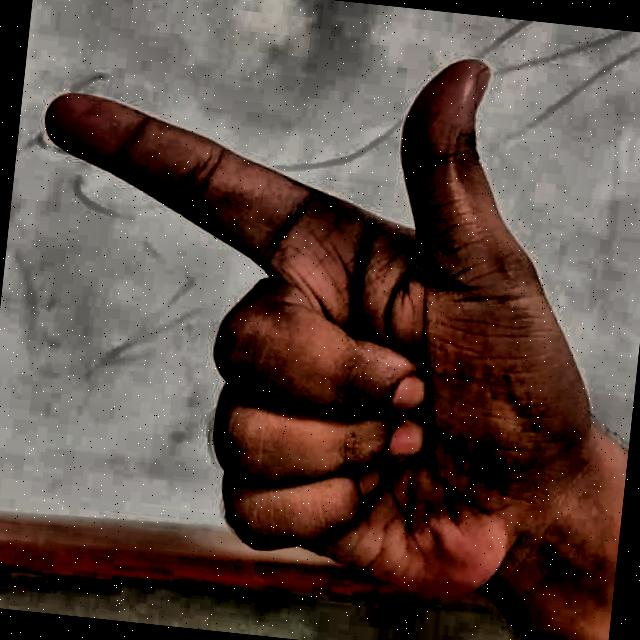Tha: (0, 0, 633, 633)
